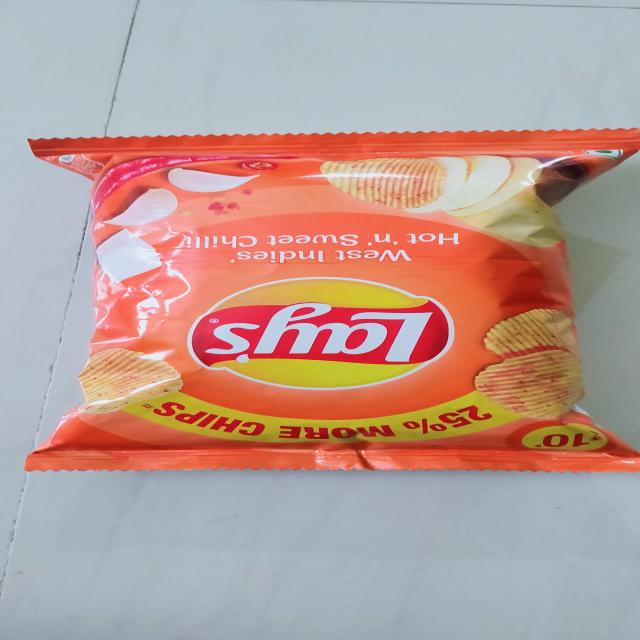lays: (28, 130, 640, 488)
